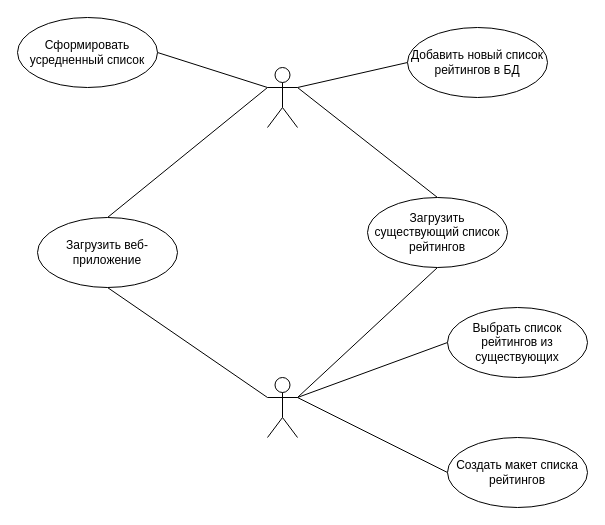
Some shapes in this 605 by 525 pixel diagram are drawn without their labels. The centre of each missing label's shape, as x and y in pixels:
Клиент: point 282,407
Сервер: point 282,97
